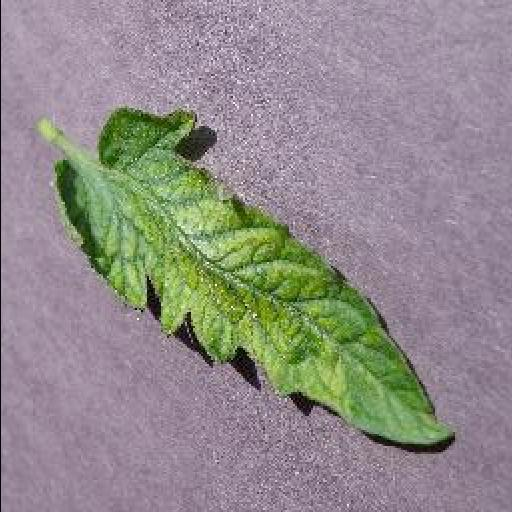Mosaic Virus: (50, 107, 456, 445)
